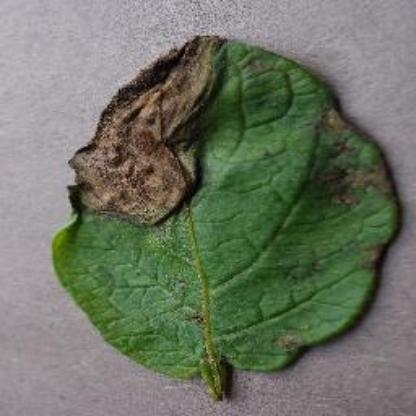Late-Blight: (60, 37, 402, 373), (366, 358, 372, 368)
